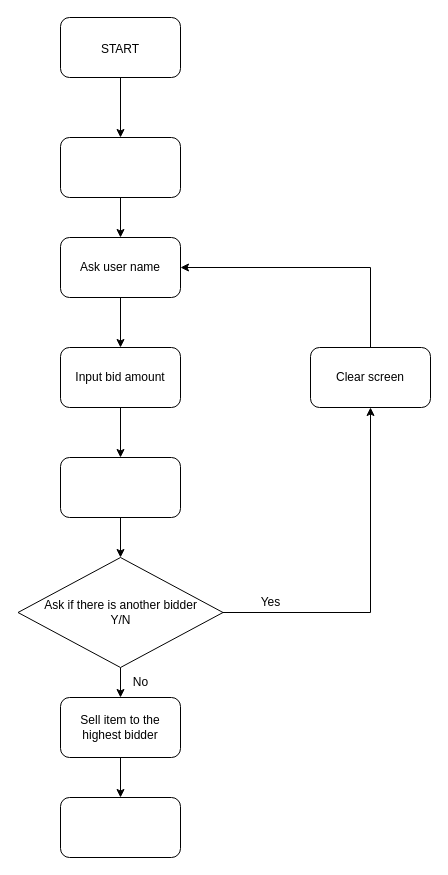
This 448x875 diagram has some shape labels left out. The centre of each missing label's shape, as x and y in pixels:
END: point 120,827
Save user's information: point 120,487
Show logo: point 120,167
